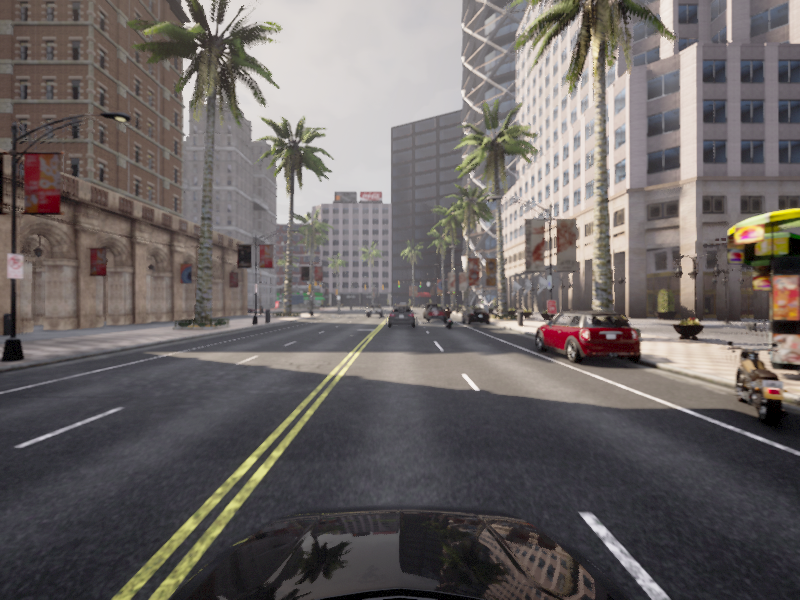vehicle: (387, 305, 416, 327), (424, 305, 447, 322), (441, 306, 455, 329), (391, 304, 412, 319), (422, 302, 440, 319)
